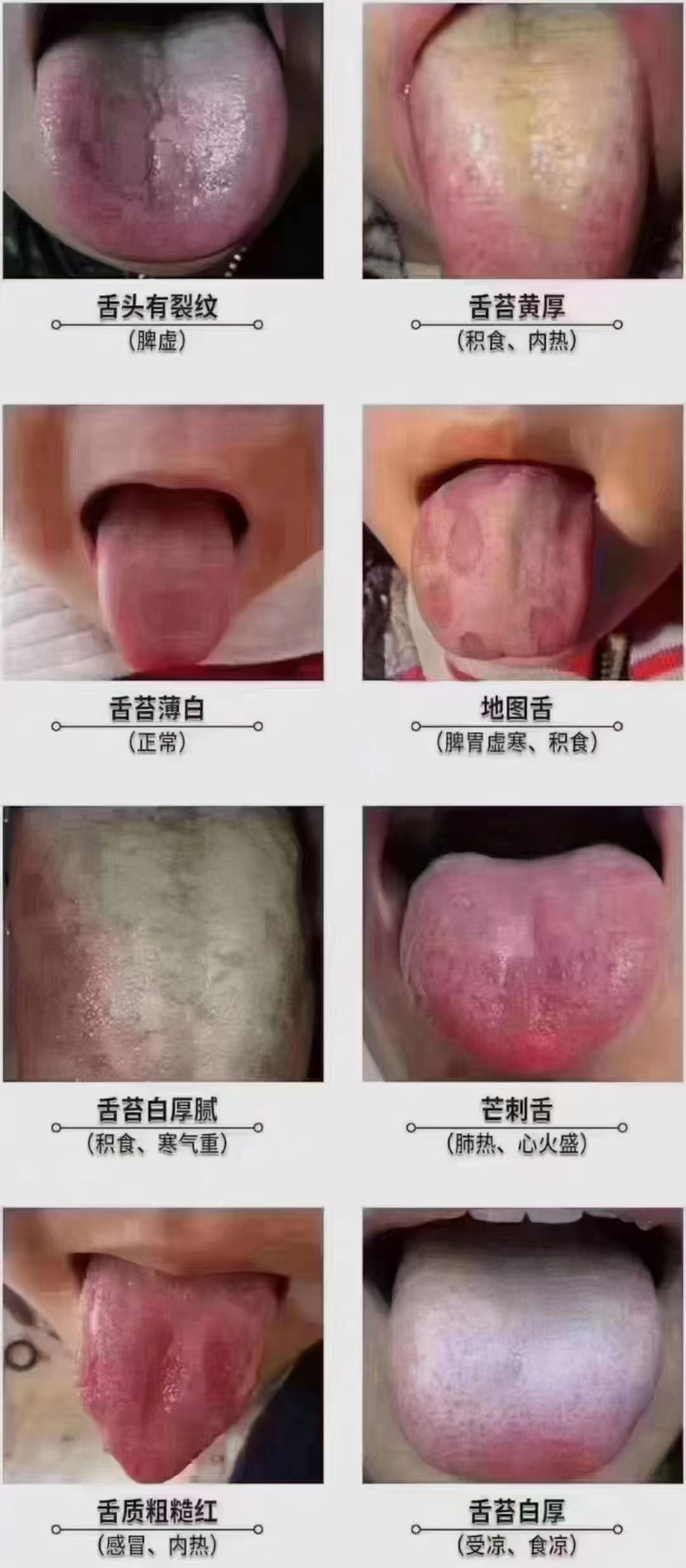baitaishe: (10, 806, 309, 1082), (389, 1236, 660, 1482), (37, 15, 288, 263), (401, 846, 671, 1073), (410, 459, 591, 660), (96, 494, 234, 675)
botaishe: (425, 578, 495, 663), (440, 491, 491, 585), (520, 604, 570, 658)
hongshe: (400, 847, 670, 1074), (77, 1254, 276, 1485)
huangtaishe: (411, 3, 644, 280)
liewenshe: (128, 81, 178, 211)
